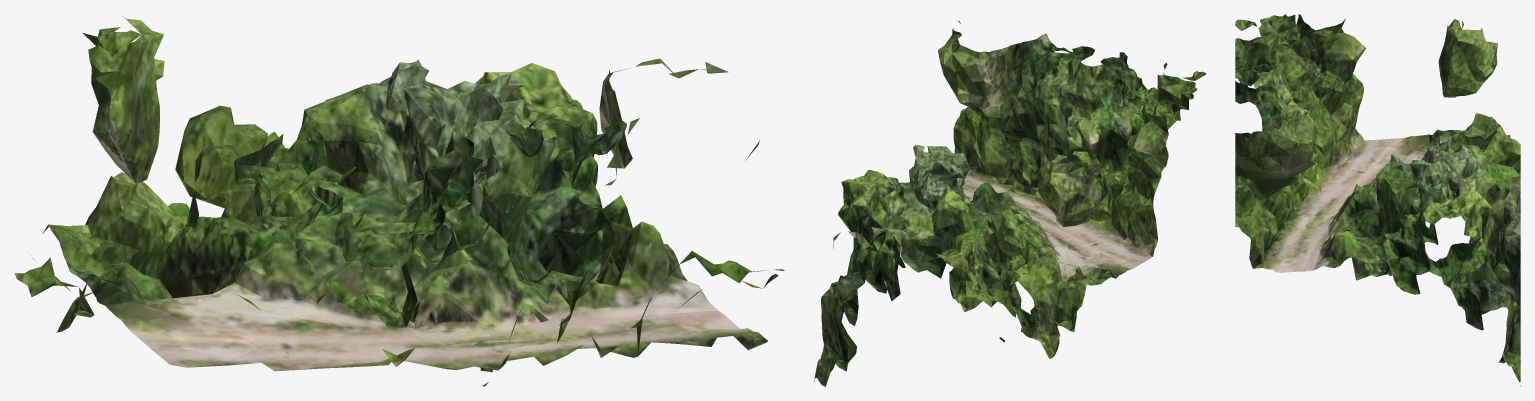
The picture shows the model from 3 angles, left to right: view 1: azimuth 30°, elevation 25°; view 2: azimuth 150°, elevation 25°; view 3: azimuth 270°, elevation 25°; orthographic projection. The views are drawn at different scales.
Bounding box in the file's own units: 26.11 × 25.49 × 26.11.
Materials: 6 (6 with a texture image).
